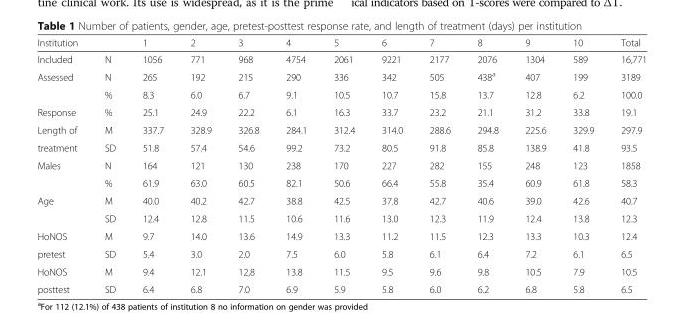table: (36, 36, 646, 294)
table column: (36, 36, 90, 294), (128, 36, 176, 294), (176, 36, 224, 294), (271, 36, 319, 294), (319, 36, 367, 294), (367, 36, 415, 294), (415, 36, 463, 294), (463, 36, 511, 294), (558, 36, 606, 294), (224, 36, 271, 294), (511, 36, 558, 294), (606, 36, 646, 294), (90, 36, 128, 294)
table column header: (36, 36, 646, 50)
table row: (36, 66, 646, 85), (36, 85, 646, 103), (36, 120, 646, 138), (36, 138, 646, 156), (36, 173, 646, 191), (36, 191, 646, 209), (36, 209, 646, 227), (36, 244, 646, 262), (36, 262, 646, 280), (36, 103, 646, 120), (36, 156, 646, 173), (36, 227, 646, 244), (36, 50, 646, 66), (36, 36, 646, 50), (36, 280, 646, 294)
table spanning cell: (36, 66, 90, 103), (36, 191, 90, 227), (36, 156, 90, 191)
